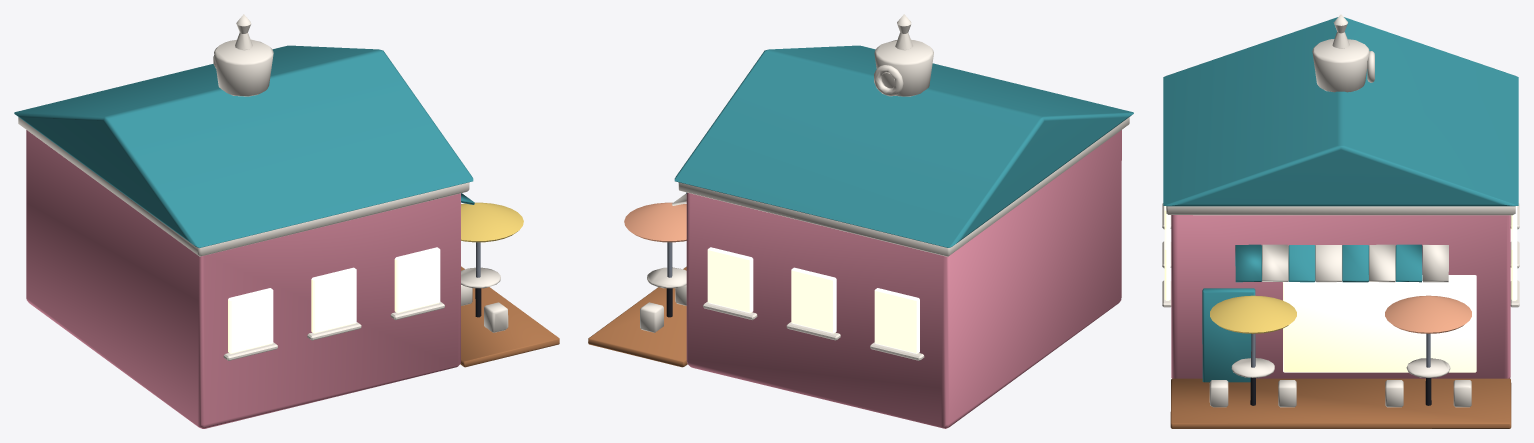
The model's file is cafe.glb.
3 views of the same model, side by side, from view 1: azimuth 30°, elevation 25°; view 2: azimuth 150°, elevation 25°; view 3: azimuth 270°, elevation 25° (orthographic). The views are drawn at different scales.
Parts seen in each view (by area): view 1: cafe; view 2: cafe; view 3: cafe.
Boxes of the visible parts, x1,y1,x2,y2 form: cafe: (14, 14, 559, 428); cafe: (588, 14, 1133, 428); cafe: (1162, 14, 1519, 428).
Size of the model in its own units: 8.4 by 7 by 7.34.
Materials: 1 (1 with a texture image).
